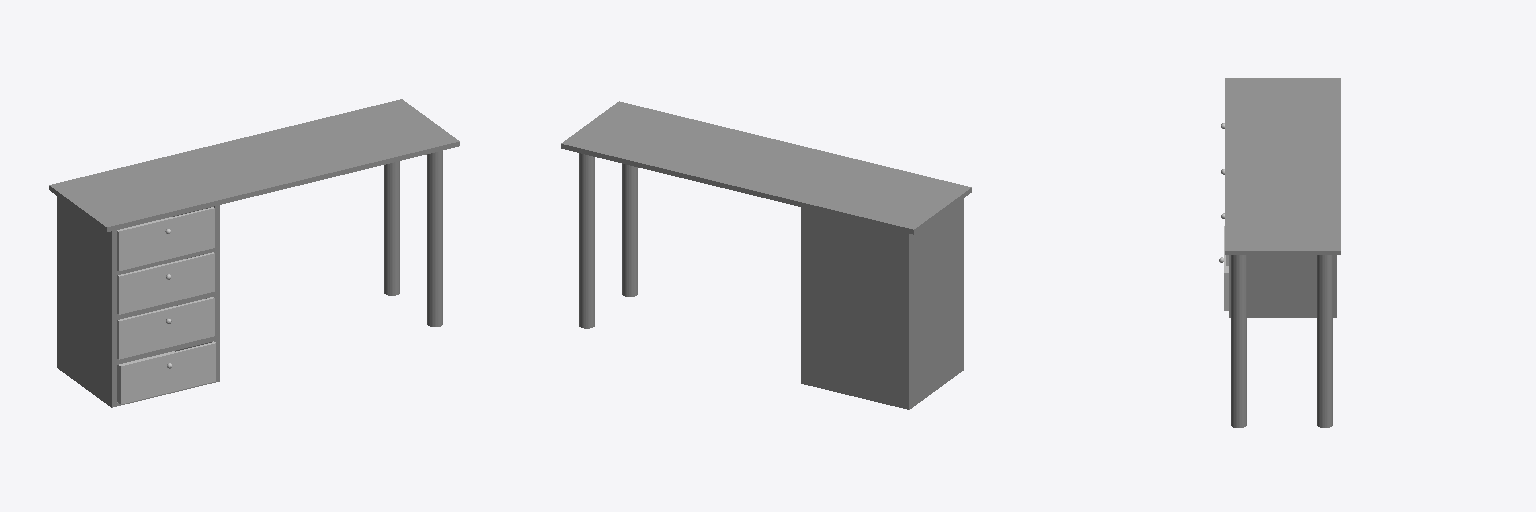
Rendered from biurko.obj.
The picture shows the model from 3 angles: view 1: azimuth 30°, elevation 25°; view 2: azimuth 150°, elevation 25°; view 3: azimuth 270°, elevation 25°; orthographic projection.
Parts seen in each view (by area): view 1: Desk_Cylinder.001, Desk.001_Cylinder.002, nogi_Cylinder.000, shelf1_Sphere.003, shelf4_Cube.005, shelf2_Cube.002, shelf3_Sphere.001; view 2: Desk.001_Cylinder.002, Desk_Cylinder.001, nogi_Cylinder.000; view 3: Desk_Cylinder.001, nogi_Cylinder.000, Desk.001_Cylinder.002.
Part boxes in pixels (bbox=[...]): Desk_Cylinder.001: bbox=[49, 99, 459, 231]; Desk.001_Cylinder.002: bbox=[57, 196, 219, 407]; nogi_Cylinder.000: bbox=[384, 151, 442, 326]; shelf1_Sphere.003: bbox=[117, 207, 214, 270]; shelf4_Cube.005: bbox=[117, 341, 215, 403]; shelf2_Cube.002: bbox=[117, 252, 214, 314]; shelf3_Sphere.001: bbox=[117, 297, 214, 359]; Desk.001_Cylinder.002: bbox=[801, 199, 963, 409]; Desk_Cylinder.001: bbox=[561, 101, 971, 234]; nogi_Cylinder.000: bbox=[579, 153, 637, 328]; Desk_Cylinder.001: bbox=[1225, 78, 1340, 254]; nogi_Cylinder.000: bbox=[1231, 255, 1332, 427]; Desk.001_Cylinder.002: bbox=[1229, 255, 1336, 317].
Size of the model in its own units: 9.92 by 4.92 by 2.97.